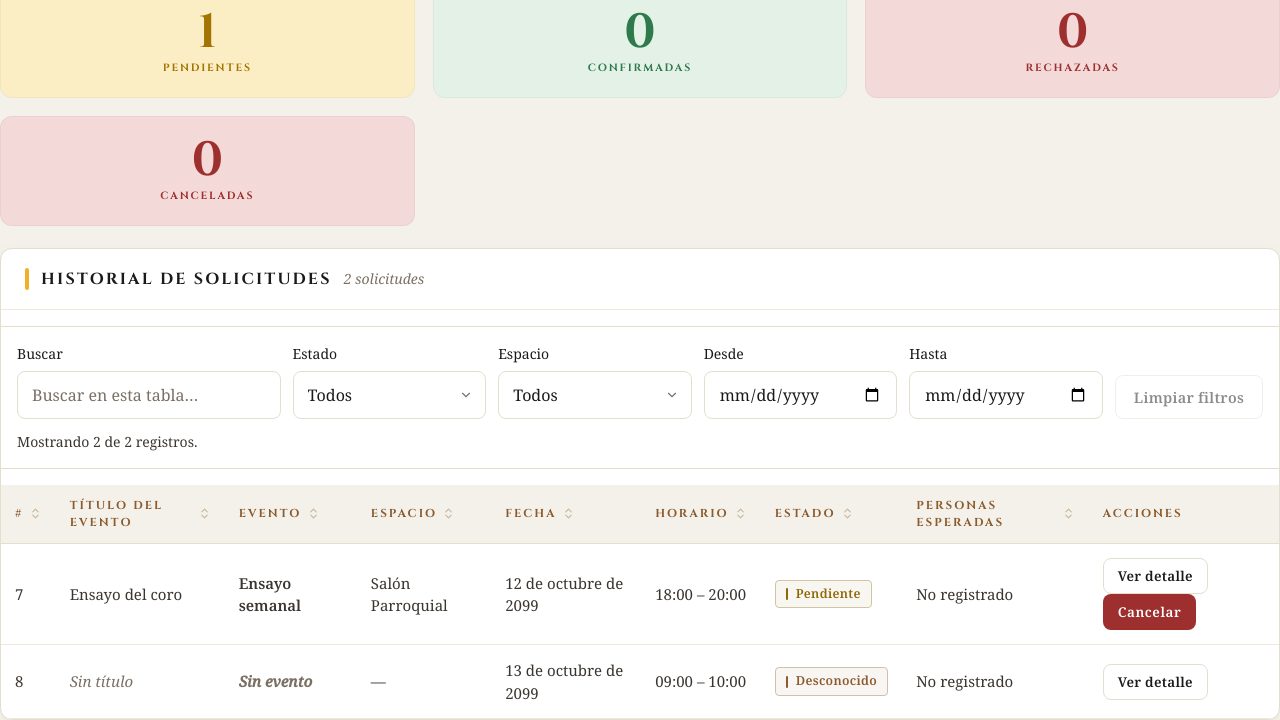
Test case: MisReservasPage — historial › avisa si falla la cancelación
(page scrolled)
Click the button "Cancelar" at (1150, 612), box x1=1103 y1=594 x2=1196 y2=630
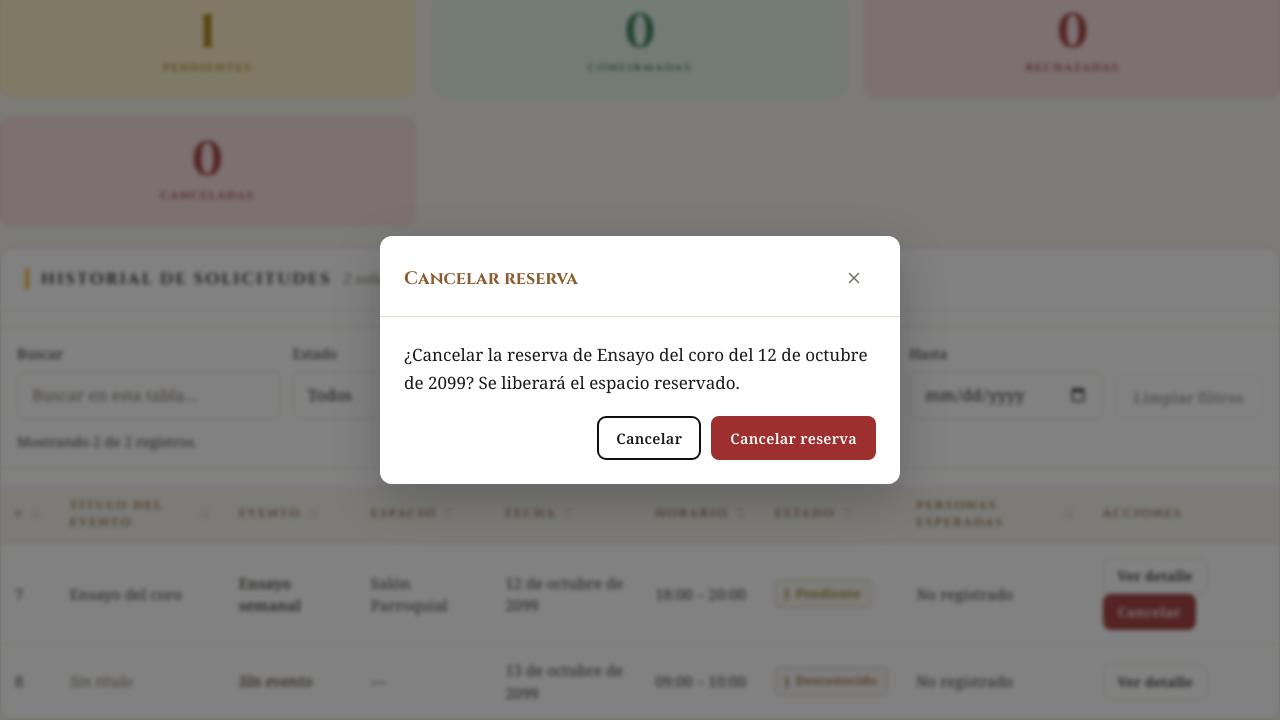
Click the button "Cancelar reserva" at (794, 438), box x1=711 y1=416 x2=876 y2=460
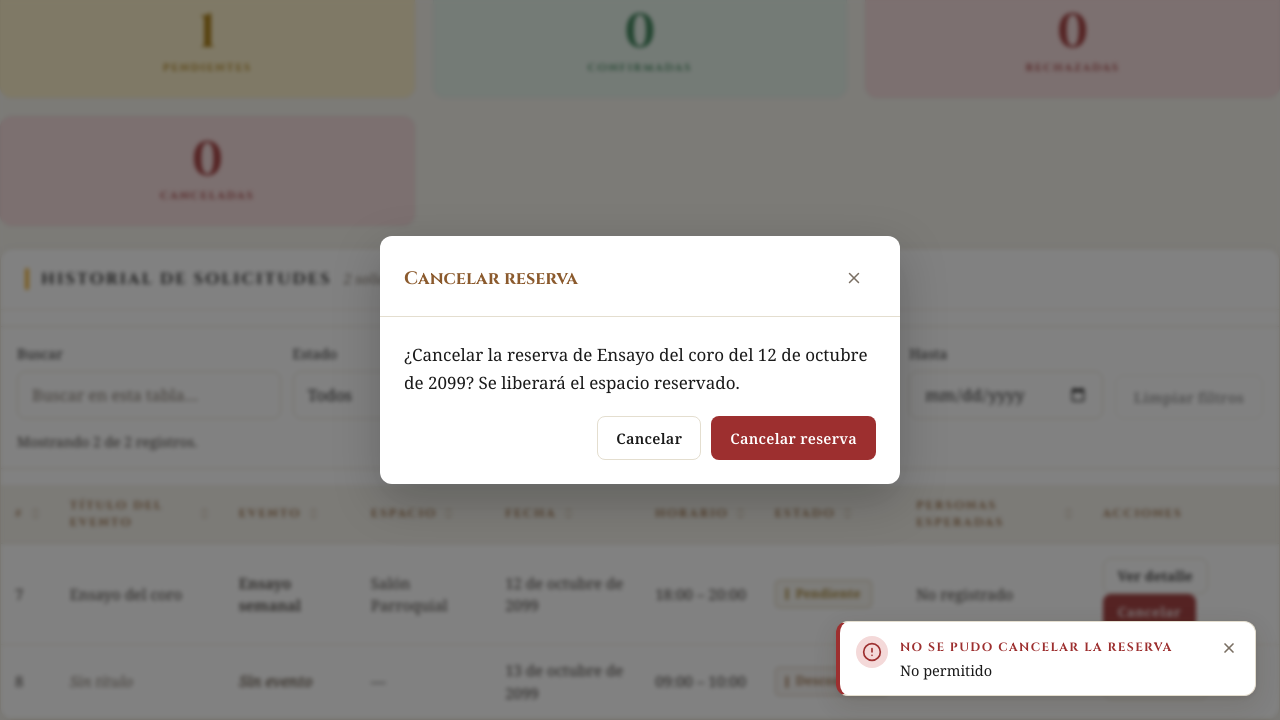
Expected: the dialog "Cancelar reserva" is shown, x1=380 y1=236 x2=900 y2=484
Expected: the message shows "No se pudo cancelar la reserva", x1=900 y1=639 x2=1173 y2=655
Expected: the message shows "No permitido", x1=900 y1=660 x2=992 y2=680
Click the button "Cancelar reserva" at (794, 438), box x1=711 y1=416 x2=876 y2=460
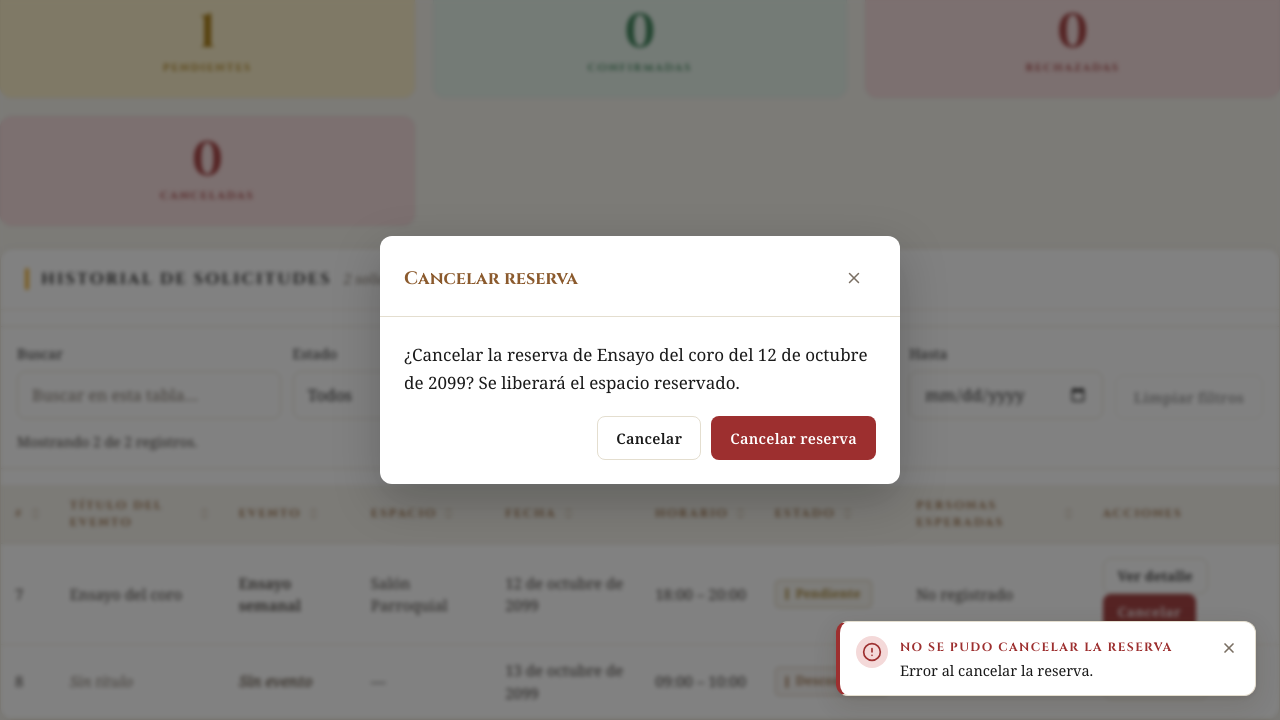
Expected: the message shows "Error al cancelar la reserva.", x1=900 y1=660 x2=1093 y2=680
